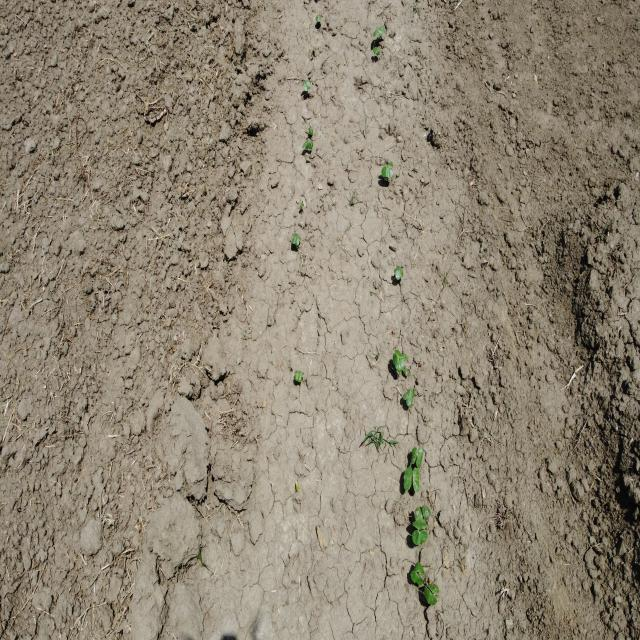seedling_s3: (412, 530, 428, 546), (424, 587, 437, 605), (412, 468, 420, 493), (404, 466, 412, 491), (393, 353, 403, 372), (411, 570, 423, 585), (414, 507, 424, 524), (395, 349, 407, 362), (406, 388, 414, 407), (381, 166, 393, 178), (414, 562, 425, 575), (413, 520, 427, 530), (426, 584, 440, 594), (417, 446, 423, 469), (422, 505, 430, 520), (377, 26, 386, 38), (411, 447, 417, 464), (395, 268, 403, 280), (293, 373, 302, 382), (304, 81, 311, 92), (403, 390, 410, 400), (293, 233, 301, 241), (373, 28, 380, 37), (302, 79, 309, 87), (292, 238, 299, 246), (295, 370, 304, 376), (307, 141, 313, 149), (305, 140, 309, 149), (384, 162, 393, 166), (394, 267, 400, 273), (316, 15, 321, 22), (308, 128, 313, 135), (376, 47, 380, 55), (373, 47, 377, 54)
